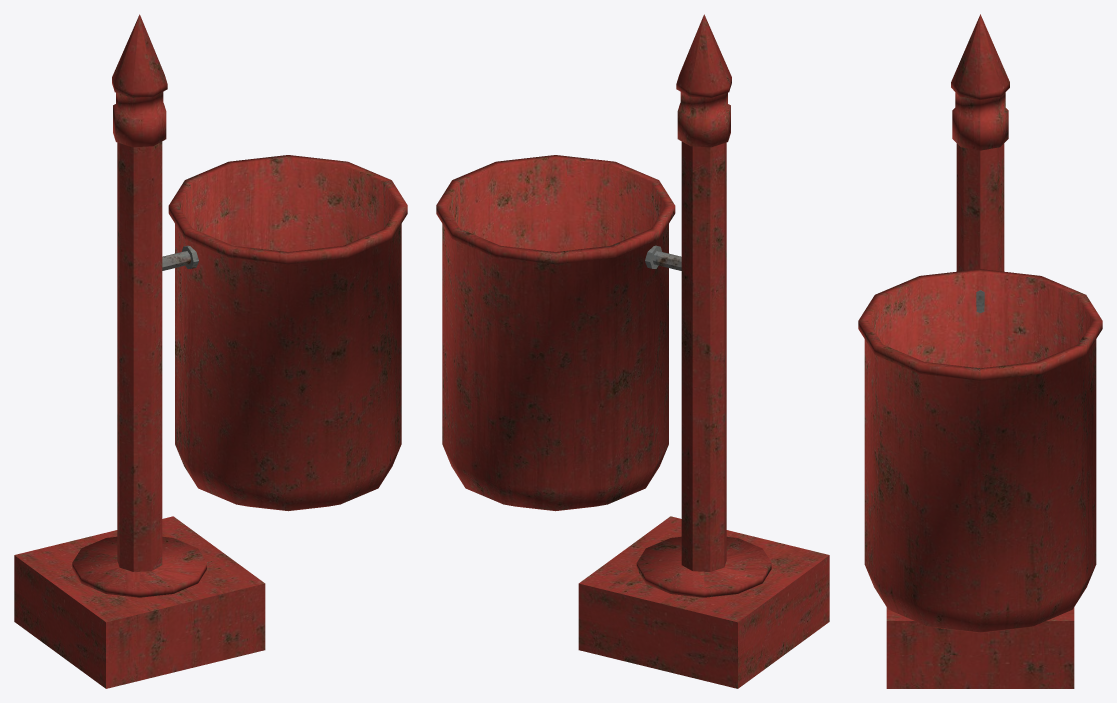
Rendered from urn_post_lod1_web.glb.
3 renders of one model, left to right at view 1: azimuth 30°, elevation 25°; view 2: azimuth 150°, elevation 25°; view 3: azimuth 270°, elevation 25°, orthographic. The views are drawn at different scales.
Visible parts, largest first — view 1: Urn_BinMesh, UrnPost_Mesh; view 2: Urn_BinMesh, UrnPost_Mesh; view 3: Urn_BinMesh, UrnPost_Mesh.
Boxes of the visible parts, left/top/right/bottom form: Urn_BinMesh: left=168, top=155, right=407, bottom=511; UrnPost_Mesh: left=14, top=14, right=265, bottom=688; Urn_BinMesh: left=436, top=155, right=675, bottom=511; UrnPost_Mesh: left=578, top=14, right=829, bottom=688; Urn_BinMesh: left=858, top=269, right=1102, bottom=632; UrnPost_Mesh: left=886, top=14, right=1074, bottom=688.
Bounding box in the file's own units: 0.625 × 1.12 × 0.39.
Materials: 2 (2 with a texture image).
